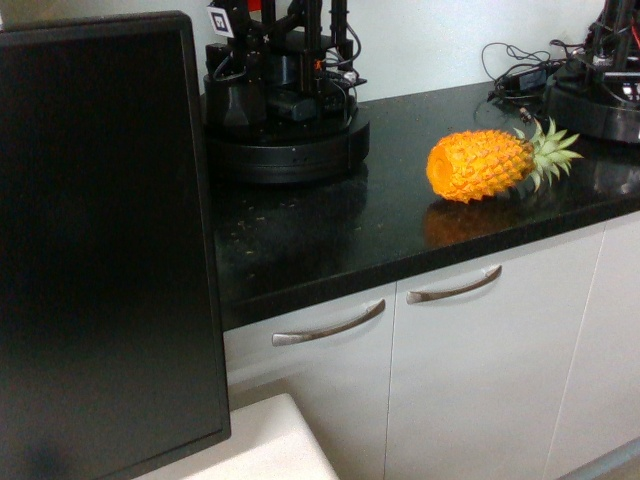pineapple: (417, 119, 583, 202)
